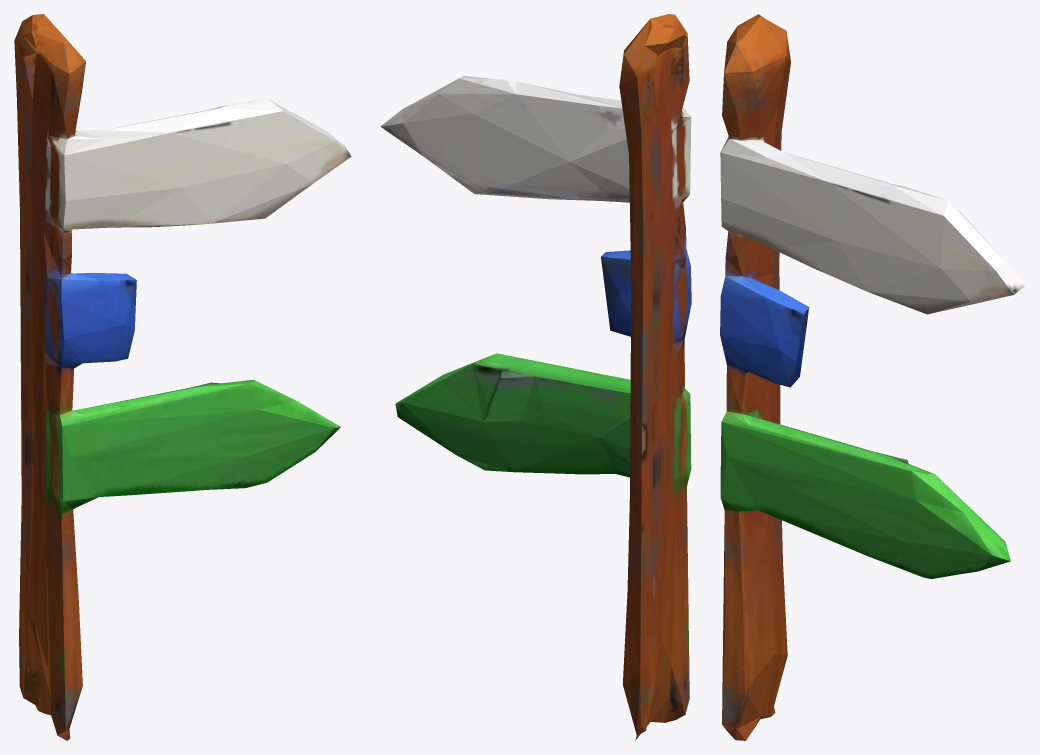
The model's file is signpost.glb.
The picture shows the model from 3 angles, left to right: view 1: azimuth 30°, elevation 25°; view 2: azimuth 150°, elevation 25°; view 3: azimuth 330°, elevation 25°; orthographic projection.
Visible parts, largest first — view 1: signpost; view 2: signpost; view 3: signpost.
Part boxes in pixels (x1,y1,x2,y2): signpost: [14, 14, 351, 740]; signpost: [380, 14, 691, 740]; signpost: [720, 14, 1025, 740].
Bounding box in the file's own units: 1.15 × 2.58 × 0.3444.
Materials: 1 (1 with a texture image).
